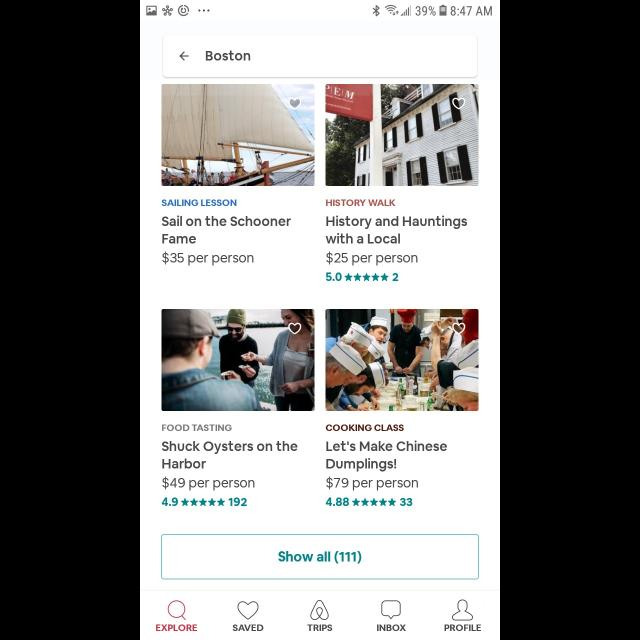icon: (452, 600, 473, 620), (381, 600, 401, 620), (238, 600, 258, 620), (168, 600, 186, 620), (352, 498, 396, 506), (181, 498, 225, 506), (345, 273, 389, 281), (288, 323, 302, 335), (452, 323, 466, 335), (452, 98, 466, 110), (288, 98, 302, 110), (179, 52, 189, 62)
image: (326, 309, 478, 411), (162, 309, 314, 411), (162, 84, 314, 186), (326, 84, 478, 186), (311, 600, 329, 620)
text: (325, 216, 467, 244), (162, 441, 298, 469), (327, 441, 448, 472), (162, 216, 290, 244), (162, 250, 254, 266), (162, 477, 255, 491), (326, 477, 418, 491), (327, 252, 418, 266), (326, 424, 404, 432), (162, 198, 236, 206), (162, 424, 232, 432), (326, 200, 396, 207), (206, 51, 250, 61), (156, 624, 198, 632), (444, 624, 482, 632), (232, 624, 264, 632), (378, 624, 407, 632), (326, 498, 350, 507), (307, 624, 333, 632), (228, 498, 248, 507), (326, 272, 342, 282), (162, 498, 178, 507), (400, 498, 412, 506), (393, 273, 399, 281)
textbutton: (161, 534, 479, 580)
uppertaskbar: (140, 1, 500, 22)
